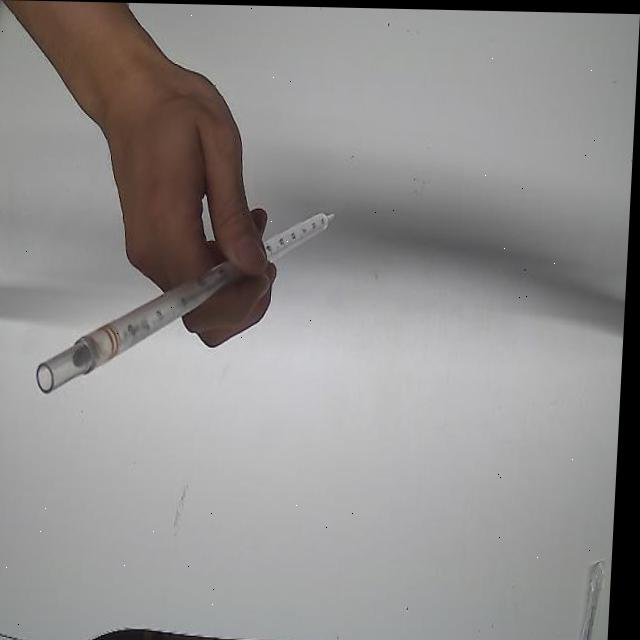Serelogical Pipet 10 mL: (35, 199, 344, 404)
